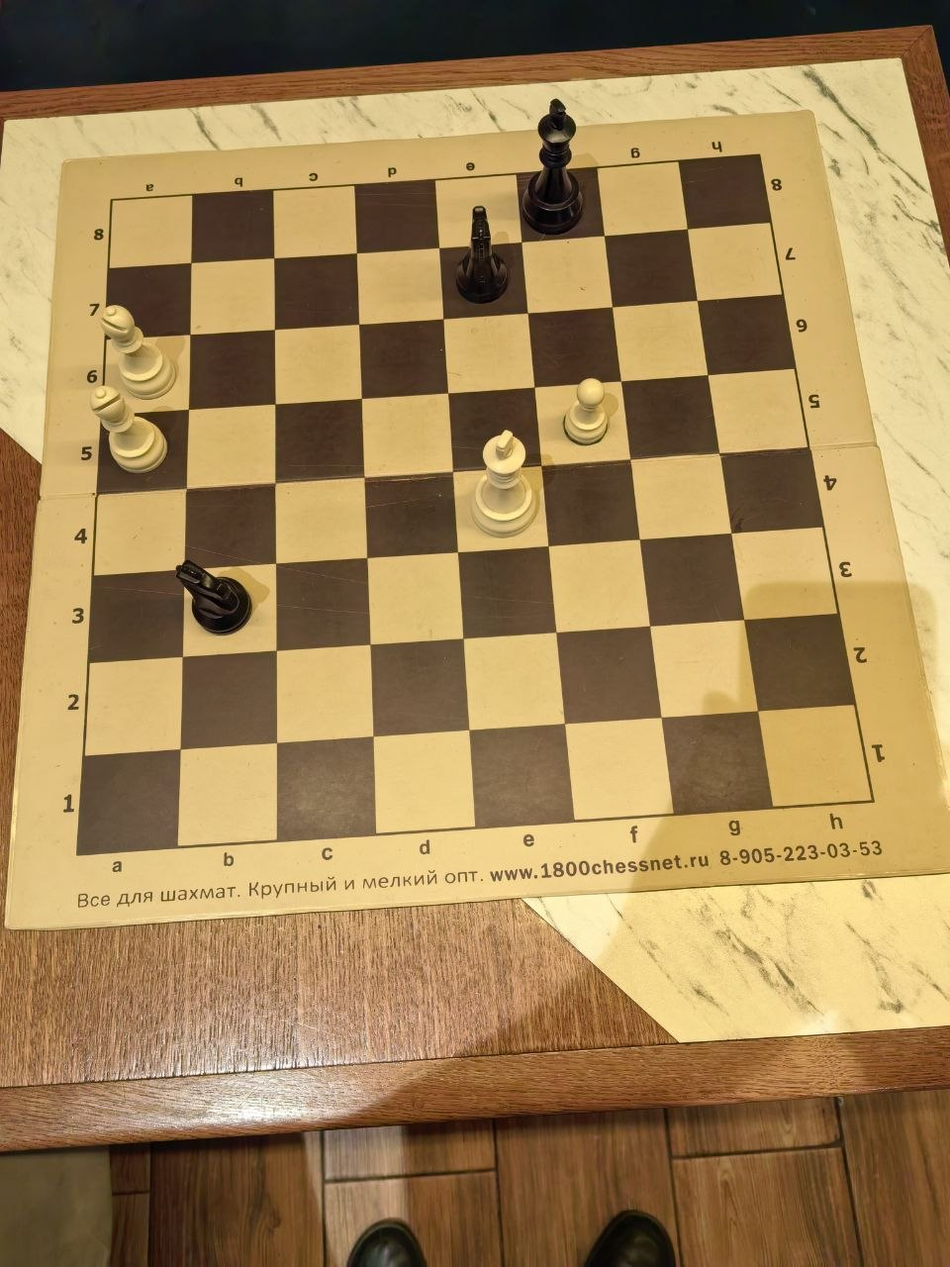black-bishop: (475, 634, 594, 792)
black-pawn: (0, 475, 119, 634), (0, 317, 119, 475)
black-rook: (594, 475, 712, 634)
white-bishop: (594, 0, 712, 158)
white-queen: (475, 158, 594, 317), (119, 792, 238, 950)
